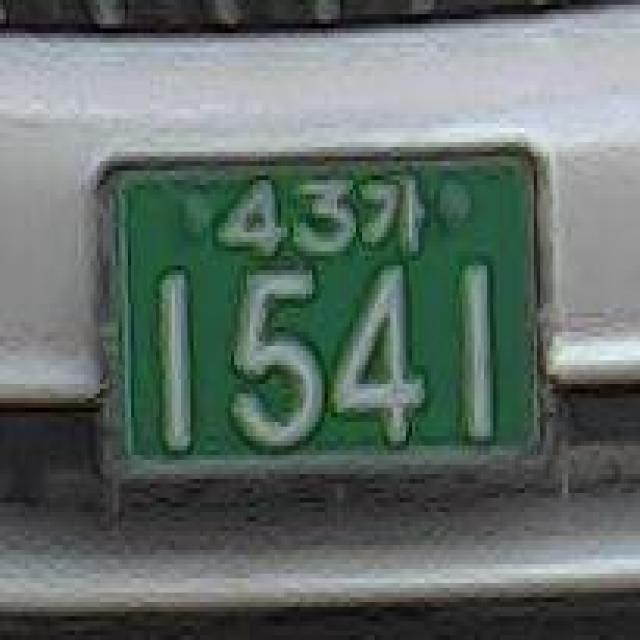illegal_plate: (81, 123, 572, 526)
